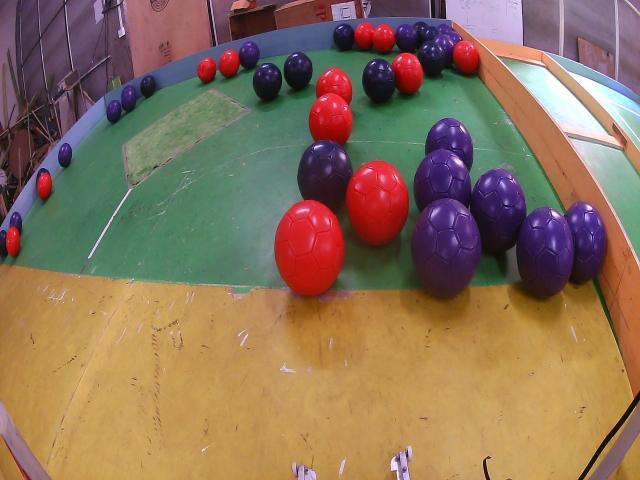jambhalya: (411, 198, 481, 297), (516, 207, 574, 297), (470, 168, 526, 252), (414, 150, 471, 210), (565, 202, 606, 283), (425, 118, 474, 170), (432, 33, 454, 68), (395, 23, 418, 52), (239, 42, 260, 69), (58, 143, 72, 168), (106, 100, 121, 123), (122, 89, 136, 111), (10, 212, 22, 235), (448, 32, 462, 45), (438, 23, 452, 33), (121, 85, 135, 94)
kaalyya: (298, 140, 352, 210), (362, 58, 396, 103), (252, 63, 282, 101), (284, 52, 312, 90), (418, 40, 445, 77), (332, 23, 355, 51), (140, 75, 156, 98), (419, 27, 439, 44), (0, 230, 9, 258), (36, 168, 48, 186), (414, 22, 428, 35)
